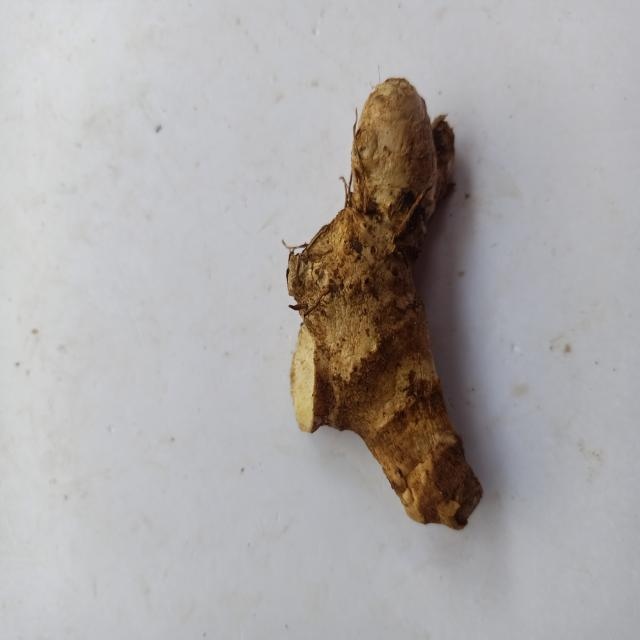Ginger: (287, 77, 483, 530)
